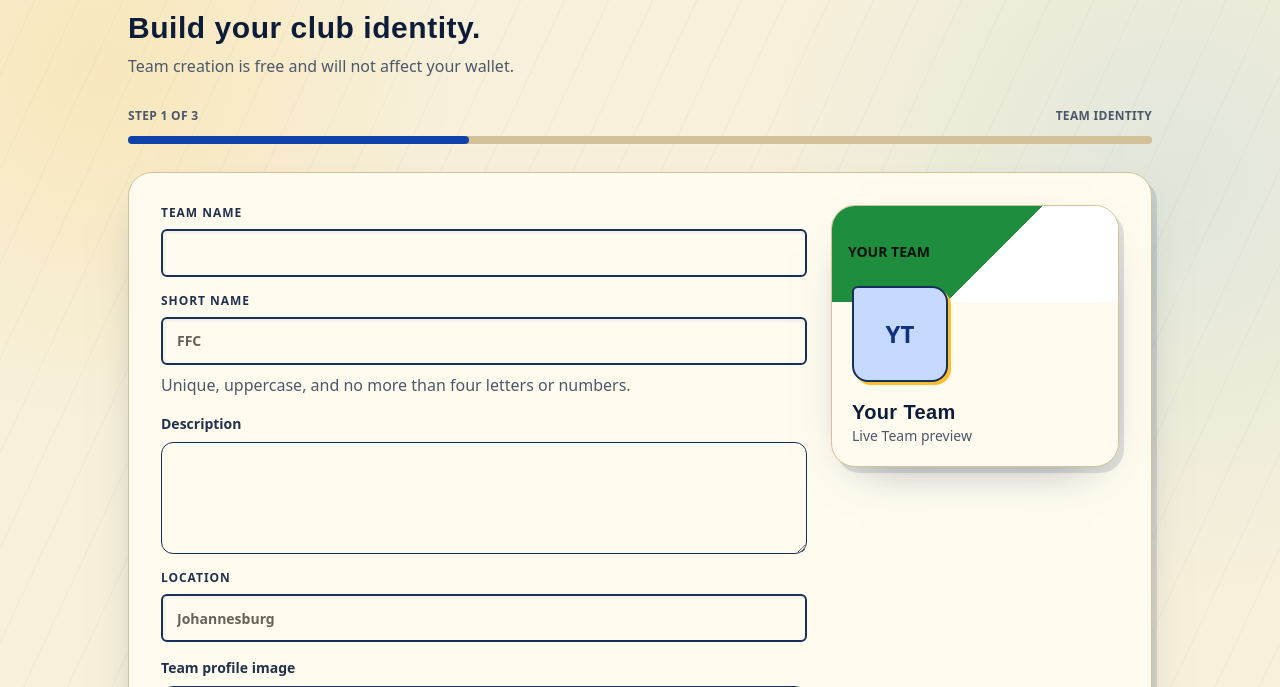
Test case: CreateTeamPage › moves through identity, football setup, and review using shared presets
Type "Footy Finder FC" into the field labelled "Team name" at (484, 253), box [161, 229, 807, 277]
(page scrolled)
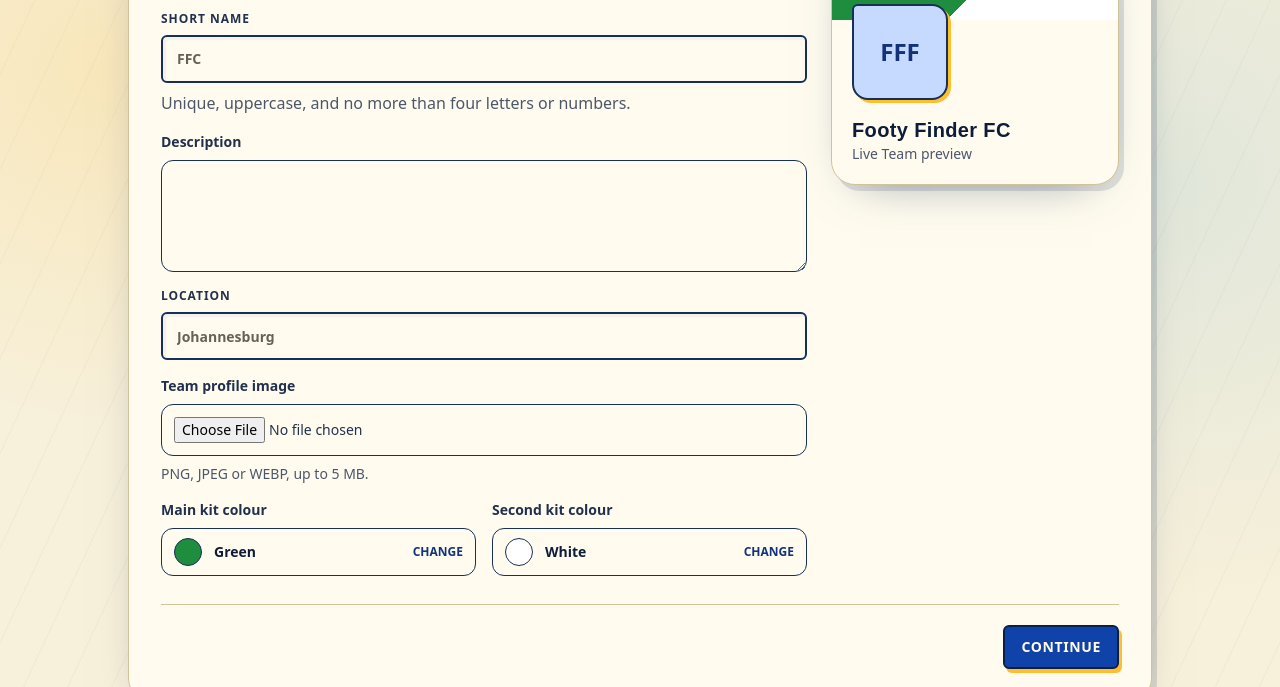
Click the button "Continue" at (1061, 647), box [1003, 625, 1119, 669]
(page scrolled)
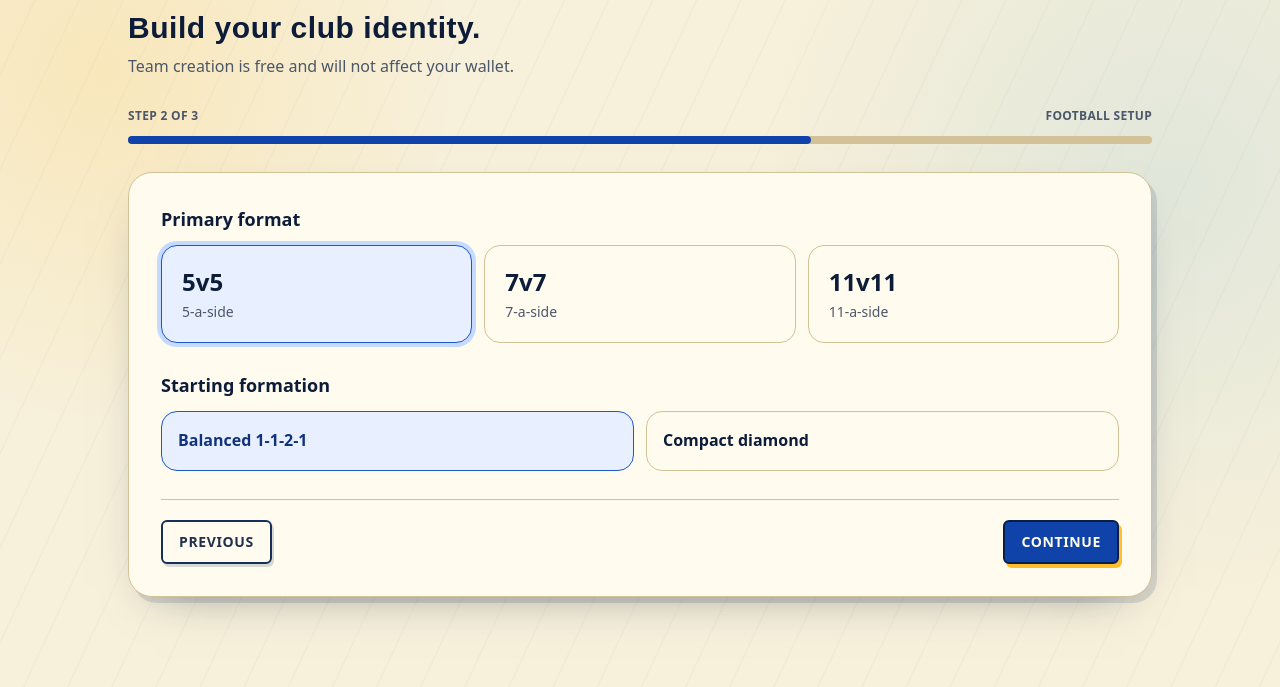
Result: the text "Primary format" is shown at [161, 205, 300, 233]
Result: the button "5v5 5-a-side" is shown at [161, 245, 472, 343]
Click the button "Continue" at (1061, 542), box [1003, 520, 1119, 564]
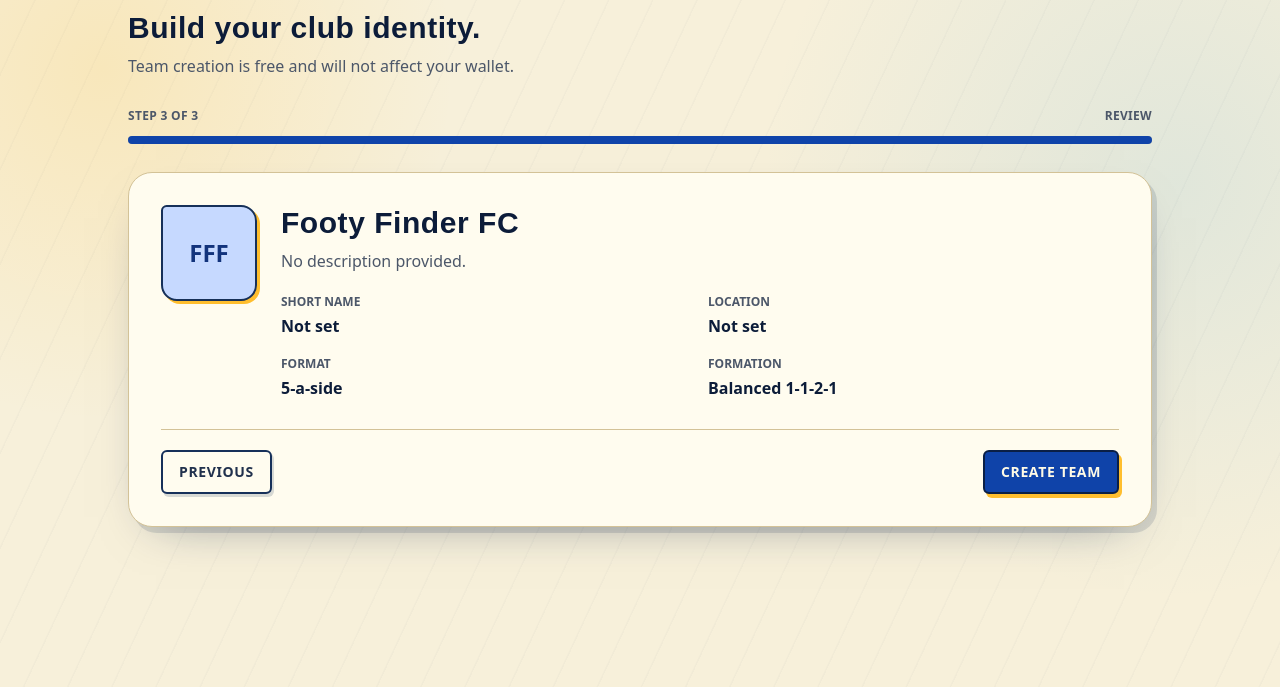
Result: the heading "Footy Finder FC" is shown at [281, 206, 519, 239]
Result: the button "Create Team" is shown at [983, 450, 1119, 494]
